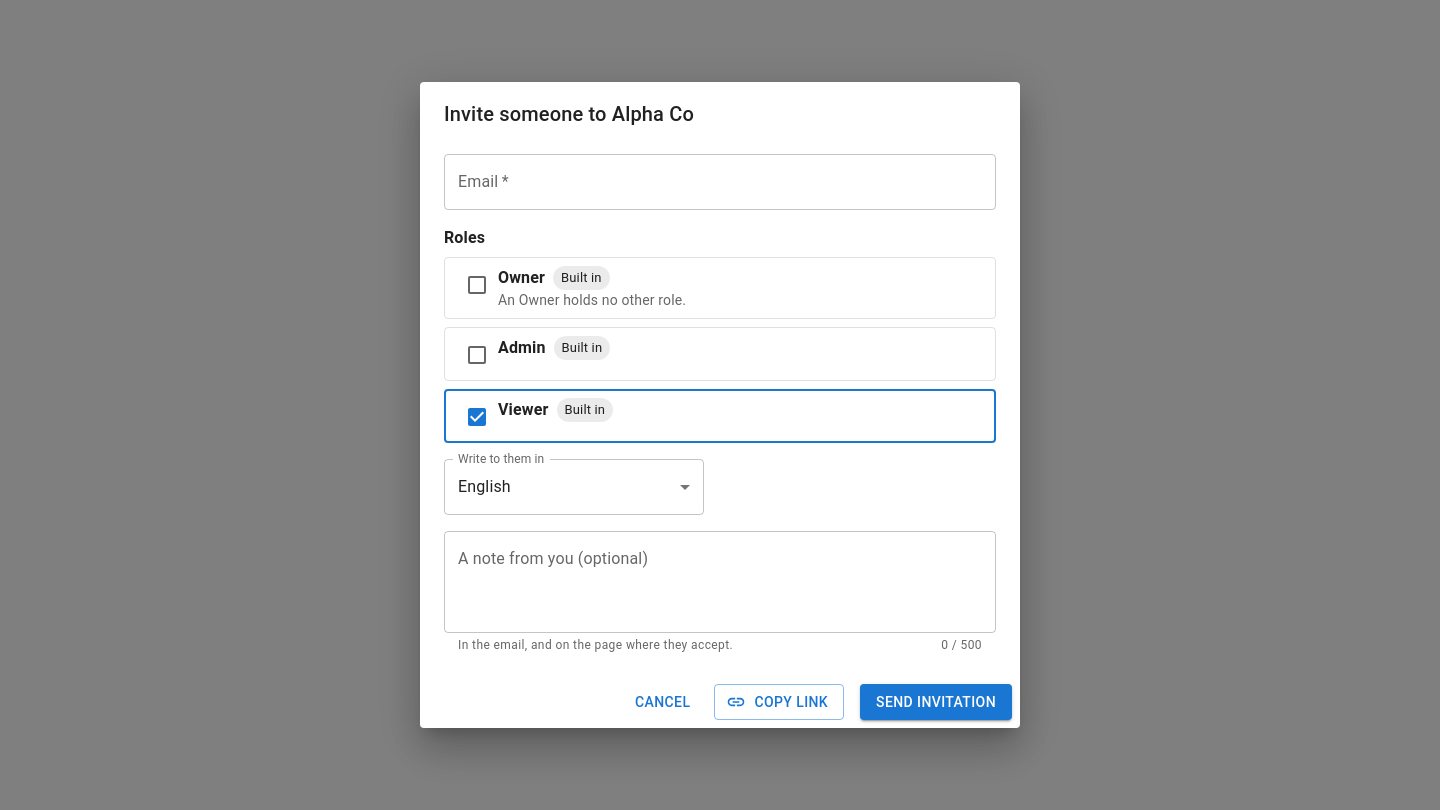
Test: InviteDialog (ADR-077) › reads the lists again when a refusal names an invitation they lack, then offers Resend
Type "sam@example.com" into the field labelled "Email" at (720, 182), box [444,154,996,210]
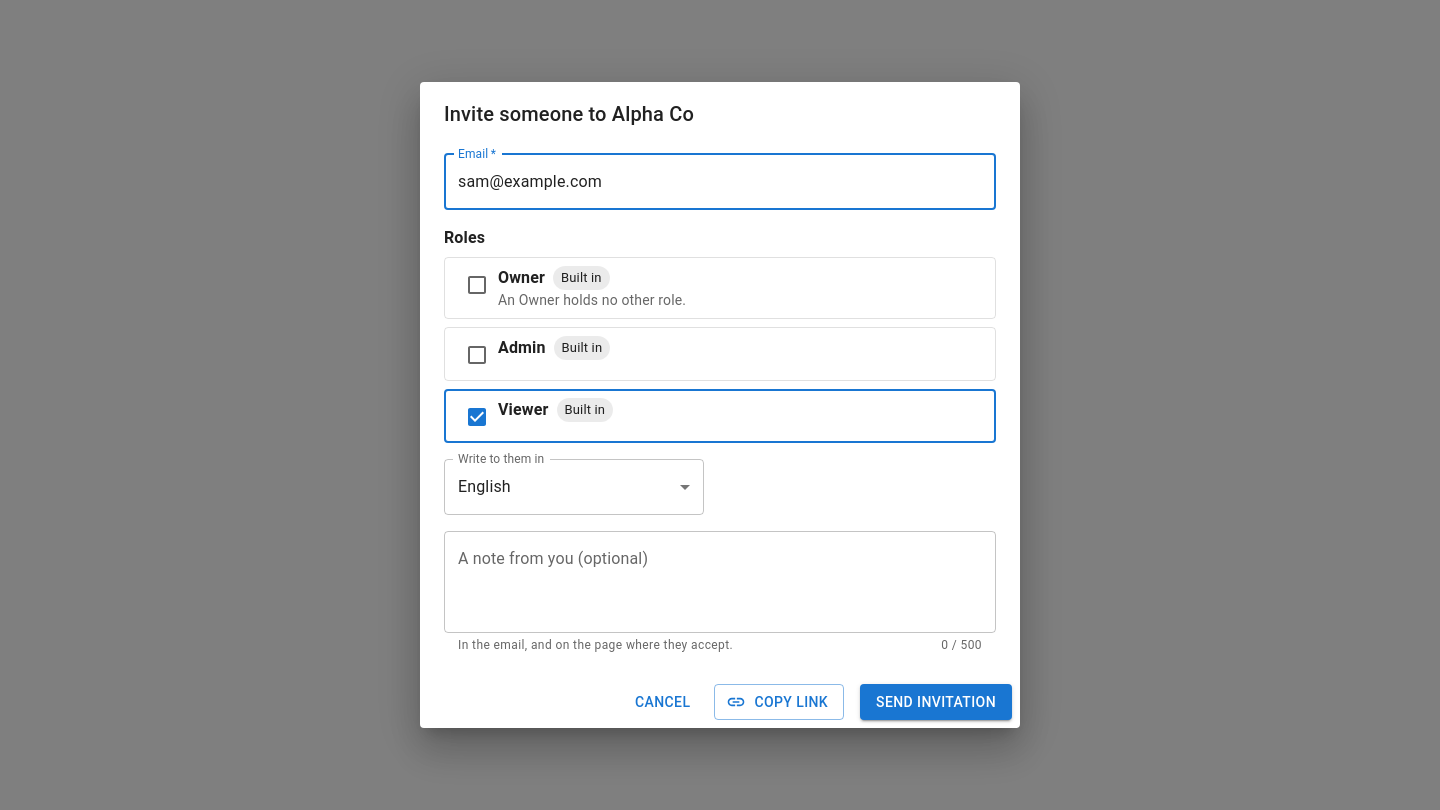
Click the button "Send invitation" at (936, 702), box [860,684,1012,720]
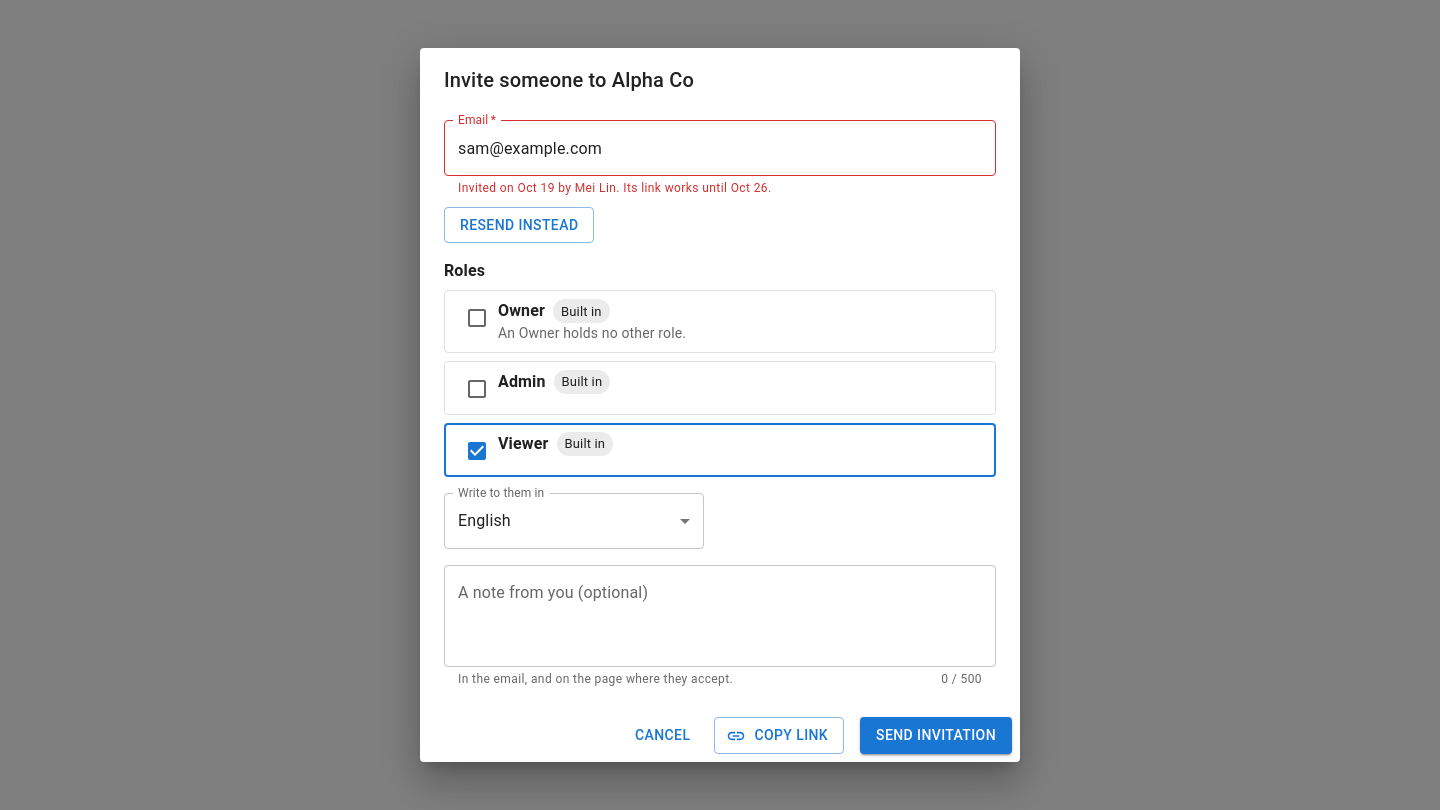
Expected: the button "Resend instead" is shown, [444,207,594,244]
